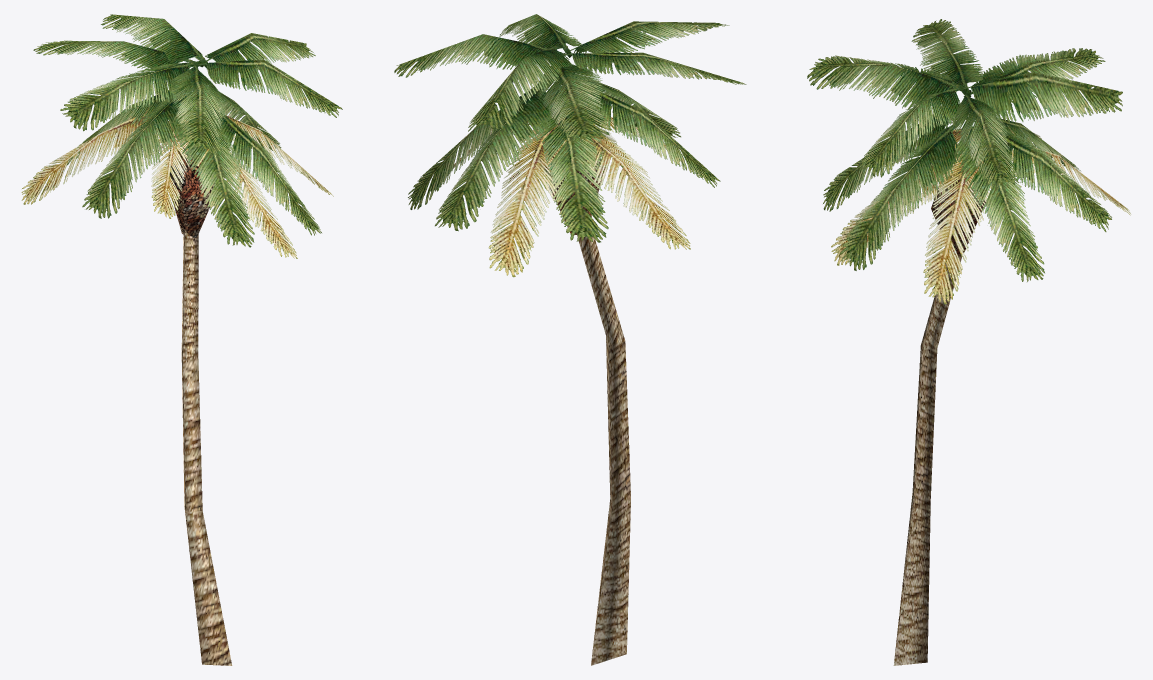
File: flora_tree_senegal_date_palm_v4.glb
3 views of the same model, side by side, from view 1: azimuth 30°, elevation 25°; view 2: azimuth 150°, elevation 25°; view 3: azimuth 270°, elevation 25° (orthographic). The views are drawn at different scales.
Parts seen in each view (by area): view 1: flora_tree_senegal_date_palm_v4_part0; view 2: flora_tree_senegal_date_palm_v4_part0; view 3: flora_tree_senegal_date_palm_v4_part0.
Boxes of the visible parts, <box> form: flora_tree_senegal_date_palm_v4_part0: <box>21,14,342,665</box>; flora_tree_senegal_date_palm_v4_part0: <box>394,14,746,665</box>; flora_tree_senegal_date_palm_v4_part0: <box>807,19,1130,665</box>.
Size of the model in its own units: 6.84 by 13.23 by 7.
1 material, 1 textured.
